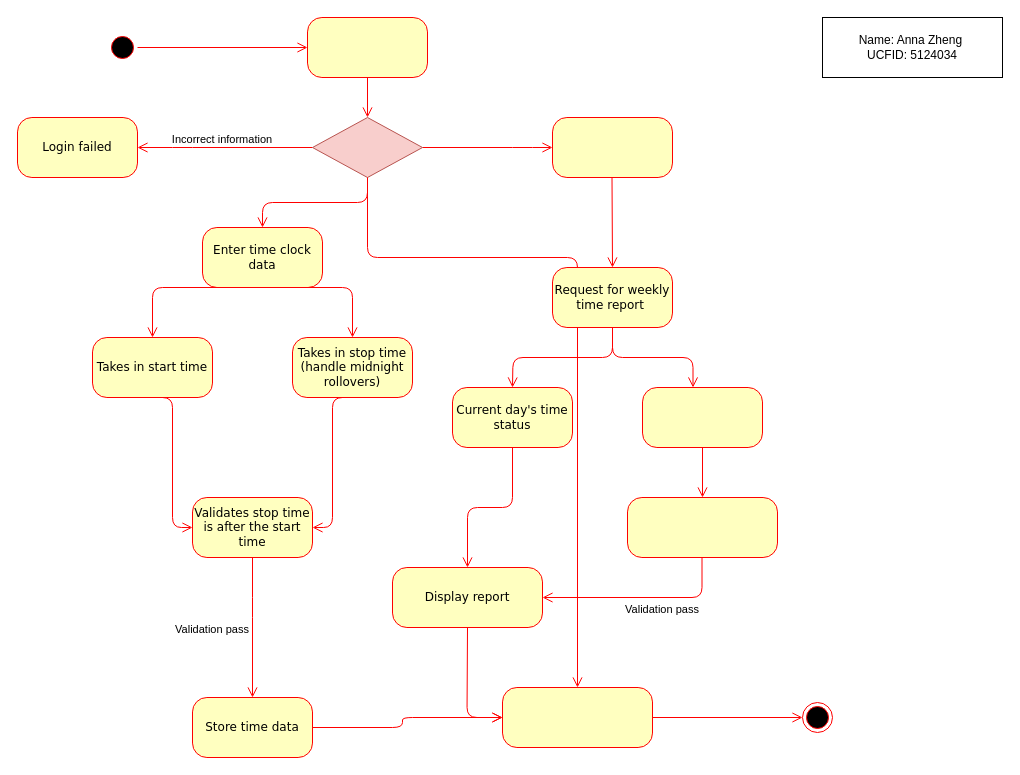
This 1020x775 diagram has some shape labels left out. The box of each missing label's shape, as (x1, y1, x2, y2) in pixels:
Accumulated time: (642, 386, 762, 448)
Employee record: (552, 116, 672, 178)
Log in: (306, 16, 428, 78)
Log out: (502, 686, 652, 748)
Provide employee ID, start, and stop time: (626, 496, 778, 558)
